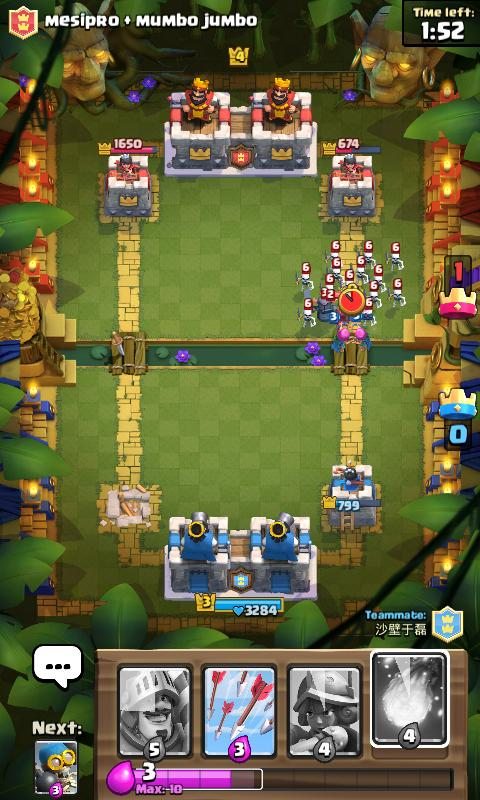ally_archer: (350, 312, 376, 353), (328, 311, 350, 354)
enemy_mini_pekka: (310, 295, 338, 321)
enemy_skeleton: (294, 297, 316, 328), (385, 277, 407, 308), (293, 261, 314, 293), (384, 241, 405, 273), (349, 253, 369, 285), (358, 239, 377, 269), (365, 280, 381, 310), (326, 256, 342, 284), (372, 263, 385, 292), (323, 238, 337, 261)
